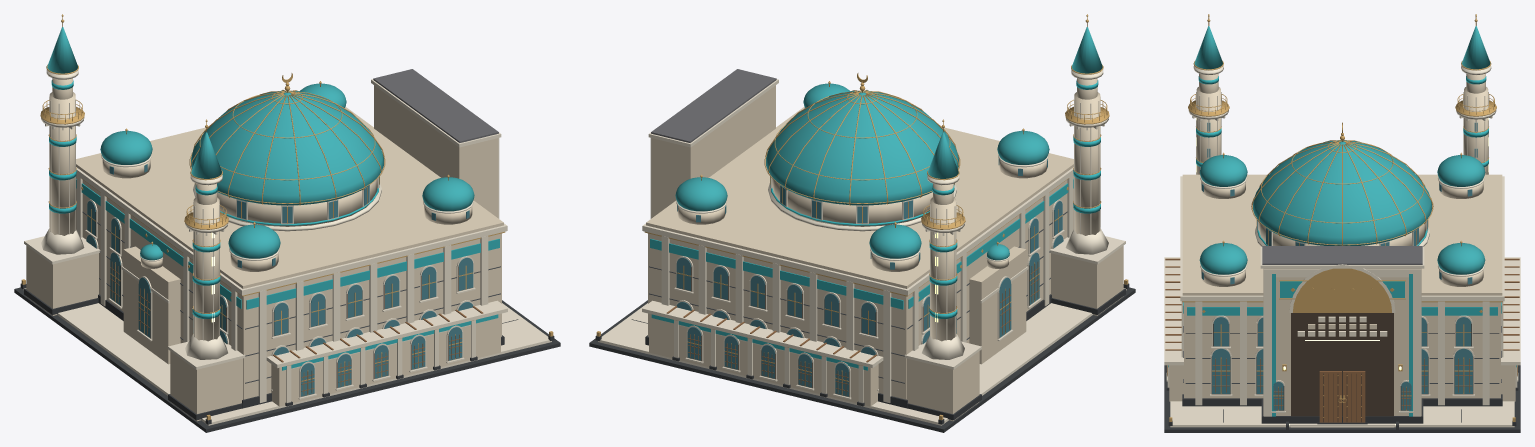
The model's file is mosque.glb.
3 views of the same model, side by side, from view 1: azimuth 30°, elevation 25°; view 2: azimuth 150°, elevation 25°; view 3: azimuth 270°, elevation 25° (orthographic). The views are drawn at different scales.
Parts seen in each view (by area): view 1: Merged_MosqueStone, Merged_MosqueLimestone, Merged_MosqueDome, Merged_MosqueGlass, Merged_MosqueBrass, Merged_MosqueGranite, Merged_MosqueTile, mosque_portal_roof, Merged_MosqueWood, Merged_MosqueInterior, Merged_WindowFrame; view 2: Merged_MosqueStone, Merged_MosqueLimestone, Merged_MosqueDome, Merged_MosqueGlass, Merged_MosqueBrass, Merged_MosqueGranite, Merged_MosqueTile, mosque_portal_roof, Merged_MosqueWood, Merged_MosqueInterior, Merged_WindowFrame; view 3: Merged_MosqueStone, Merged_MosqueLimestone, Merged_MosqueDome, Merged_MosqueInterior, Merged_MosqueBrass, Merged_MosqueGranite, Merged_MosqueGlass, Merged_MosqueWood, Merged_MosqueTile, mosque_portal_roof.
Part boxes in pixels (x1,y1,x2,y2): Merged_MosqueStone: [26, 78, 503, 421]; Merged_MosqueLimestone: [23, 69, 551, 425]; Merged_MosqueDome: [47, 27, 474, 260]; Merged_MosqueGlass: [86, 164, 473, 396]; Merged_MosqueBrass: [21, 14, 553, 420]; Merged_MosqueGranite: [14, 283, 560, 432]; Merged_MosqueTile: [49, 80, 499, 370]; mosque_portal_roof: [373, 69, 498, 142]; Merged_MosqueWood: [110, 262, 483, 394]; Merged_MosqueInterior: [95, 212, 472, 396]; Merged_WindowFrame: [76, 207, 500, 383]; Merged_MosqueStone: [646, 78, 1123, 421]; Merged_MosqueLimestone: [598, 69, 1126, 425]; Merged_MosqueDome: [675, 27, 1102, 260]; Merged_MosqueGlass: [676, 158, 1063, 396]; Merged_MosqueBrass: [596, 14, 1128, 420]; Merged_MosqueGranite: [589, 283, 1135, 432]; Merged_MosqueTile: [650, 80, 1100, 370]; mosque_portal_roof: [651, 69, 776, 142]; Merged_MosqueWood: [666, 262, 1039, 394]; Merged_MosqueInterior: [677, 212, 1054, 396]; Merged_WindowFrame: [649, 207, 1073, 383]; Merged_MosqueStone: [1169, 73, 1515, 415]; Merged_MosqueLimestone: [1164, 65, 1520, 427]; Merged_MosqueDome: [1194, 26, 1490, 274]; Merged_MosqueInterior: [1211, 313, 1473, 422]; Merged_MosqueBrass: [1167, 14, 1517, 421]; Merged_MosqueGranite: [1164, 365, 1520, 432]; Merged_MosqueGlass: [1201, 122, 1477, 410]; Merged_MosqueWood: [1165, 258, 1519, 422]; Merged_MosqueTile: [1168, 76, 1516, 416]; mosque_portal_roof: [1262, 246, 1422, 264].
Bounding box in the file's own units: 38.4 × 30 × 36.
